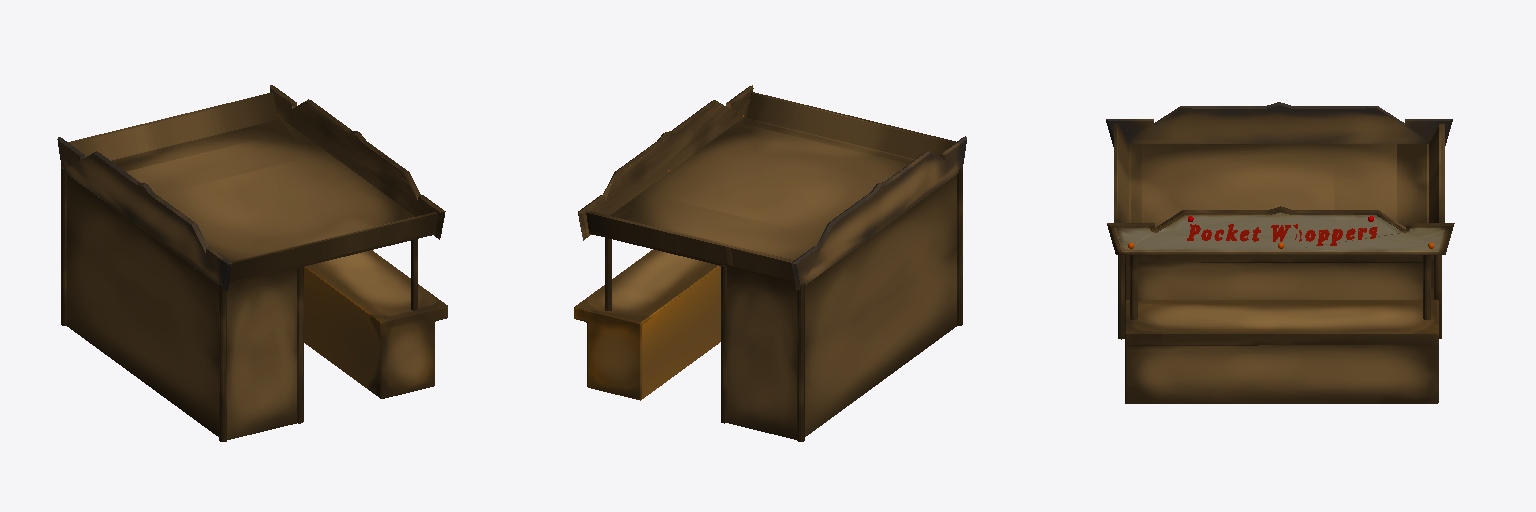
The picture shows the model from 3 angles: view 1: azimuth 30°, elevation 25°; view 2: azimuth 150°, elevation 25°; view 3: azimuth 270°, elevation 25°; orthographic projection.
Parts seen in each view (by area): view 1: Cube.031_Tex_CarnivalGameWoodTop_0, Cube.030_Tex_CarnivalBackWall_0, Cube.029_Tex_CarnivalCounter_0, Cube.002_Tex_CarnivalBackWall_0, Plane.011_Tex_CarnivalTrimDecorator_0, Plane.010_DarkMetal_0, Cylinder.003_Tex_CarnivalGameWoodPoles_0, Cylinder.002_Tex_CarnivalGameWoodPoles_0, Cylinder.001_Tex_CarnivalGameWoodPoles_0; view 2: Cube.031_Tex_CarnivalGameWoodTop_0, Cube.030_Tex_CarnivalBackWall_0, Cube.029_Tex_CarnivalCounter_0, Cube.003_Tex_CarnivalBackWall_0, Plane.011_Tex_CarnivalTrimDecorator_0, Plane.010_DarkMetal_0, Cylinder.001_Tex_CarnivalGameWoodPoles_0, Cylinder.012_Tex_CarnivalGameWoodPoles_0, Cylinder.003_Tex_CarnivalGameWoodPoles_0; view 3: Cube.029_Tex_CarnivalCounter_0, Cube.031_Tex_CarnivalGameWoodTop_0, Cube.001_Tex_CarnivalCounter_0, Plane.011_Tex_CarnivalTrimDecorator_0, Plane.010_SIgn_0, Plane.010_DarkMetal_0, Text_Material.001_0, Cylinder.002_Tex_CarnivalGameWoodPoles_0.
Boxes of the visible parts, box(x1,y1,x2,y2) form: Cube.031_Tex_CarnivalGameWoodTop_0: box(68, 92, 438, 284); Cube.030_Tex_CarnivalBackWall_0: box(67, 175, 218, 436); Cube.029_Tex_CarnivalCounter_0: box(304, 250, 447, 398); Cube.002_Tex_CarnivalBackWall_0: box(227, 268, 296, 439); Plane.011_Tex_CarnivalTrimDecorator_0: box(57, 137, 232, 291); Plane.010_DarkMetal_0: box(270, 85, 445, 239); Cylinder.003_Tex_CarnivalGameWoodPoles_0: box(219, 283, 226, 441); Cylinder.002_Tex_CarnivalGameWoodPoles_0: box(297, 266, 303, 423); Cylinder.001_Tex_CarnivalGameWoodPoles_0: box(61, 167, 66, 325); Cube.031_Tex_CarnivalGameWoodTop_0: box(586, 92, 955, 283); Cube.030_Tex_CarnivalBackWall_0: box(805, 175, 956, 436); Cube.029_Tex_CarnivalCounter_0: box(574, 249, 720, 400); Cube.003_Tex_CarnivalBackWall_0: box(727, 267, 796, 439); Plane.011_Tex_CarnivalTrimDecorator_0: box(791, 136, 966, 290); Plane.010_DarkMetal_0: box(578, 85, 753, 240); Cylinder.001_Tex_CarnivalGameWoodPoles_0: box(797, 283, 804, 441); Cylinder.012_Tex_CarnivalGameWoodPoles_0: box(721, 265, 726, 423); Cylinder.003_Tex_CarnivalGameWoodPoles_0: box(957, 166, 962, 325); Cube.029_Tex_CarnivalCounter_0: box(1125, 300, 1438, 403); Cube.031_Tex_CarnivalGameWoodTop_0: box(1114, 124, 1444, 227); Cube.001_Tex_CarnivalCounter_0: box(1125, 255, 1433, 300); Plane.011_Tex_CarnivalTrimDecorator_0: box(1106, 102, 1452, 146); Plane.010_SIgn_0: box(1116, 212, 1445, 250); Plane.010_DarkMetal_0: box(1107, 206, 1454, 254); Text_Material.001_0: box(1187, 224, 1377, 245); Cylinder.002_Tex_CarnivalGameWoodPoles_0: box(1118, 255, 1124, 339).
Size of the model in its own units: 3.94 by 3.26 by 5.17.
10 materials, 7 textured.